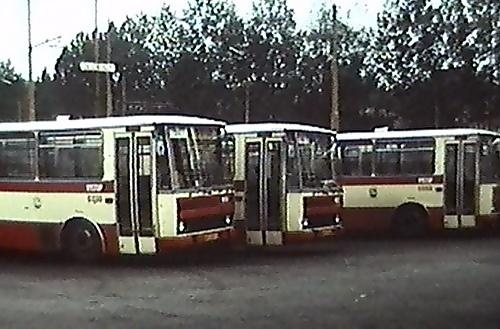bus: (1, 117, 236, 269), (340, 130, 500, 238), (225, 126, 344, 255)
